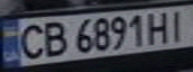1: (127, 11, 148, 47)
6: (69, 16, 97, 54)
8: (90, 15, 112, 52)
9: (109, 13, 130, 51)
B: (36, 18, 69, 58)
C: (12, 20, 48, 61)
H: (145, 8, 175, 44)
I: (163, 7, 190, 42)
